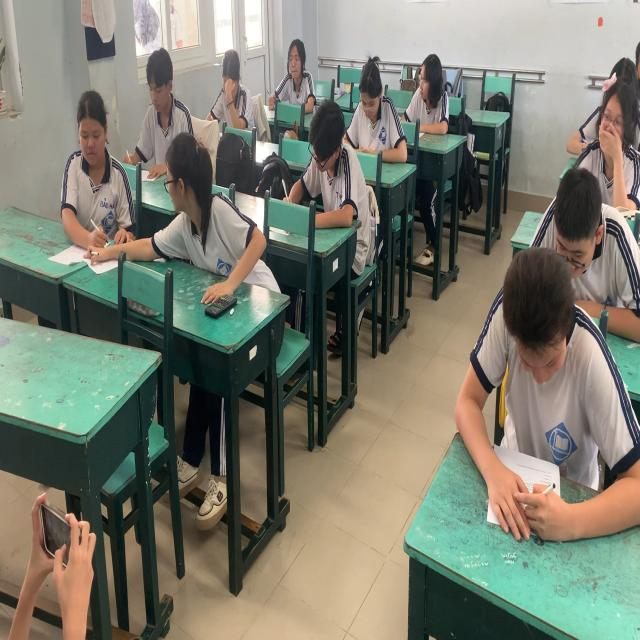cheating: (159, 132, 250, 313), (57, 84, 125, 256)
not_cheating: (476, 245, 610, 531), (540, 160, 640, 302), (297, 97, 360, 266), (591, 56, 640, 202), (138, 41, 190, 146), (354, 56, 400, 170), (407, 47, 446, 152), (210, 46, 253, 138), (279, 32, 310, 118)
